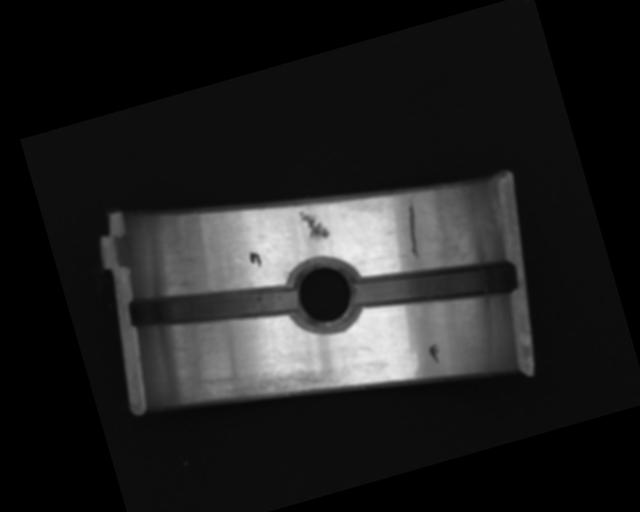blot: (246, 248, 264, 271)
bruise: (297, 205, 330, 244), (427, 343, 442, 365)
gap: (126, 258, 301, 355), (351, 236, 518, 332)
hole: (282, 252, 369, 341)
nick: (397, 197, 428, 259)
scratch: (197, 343, 344, 425)
